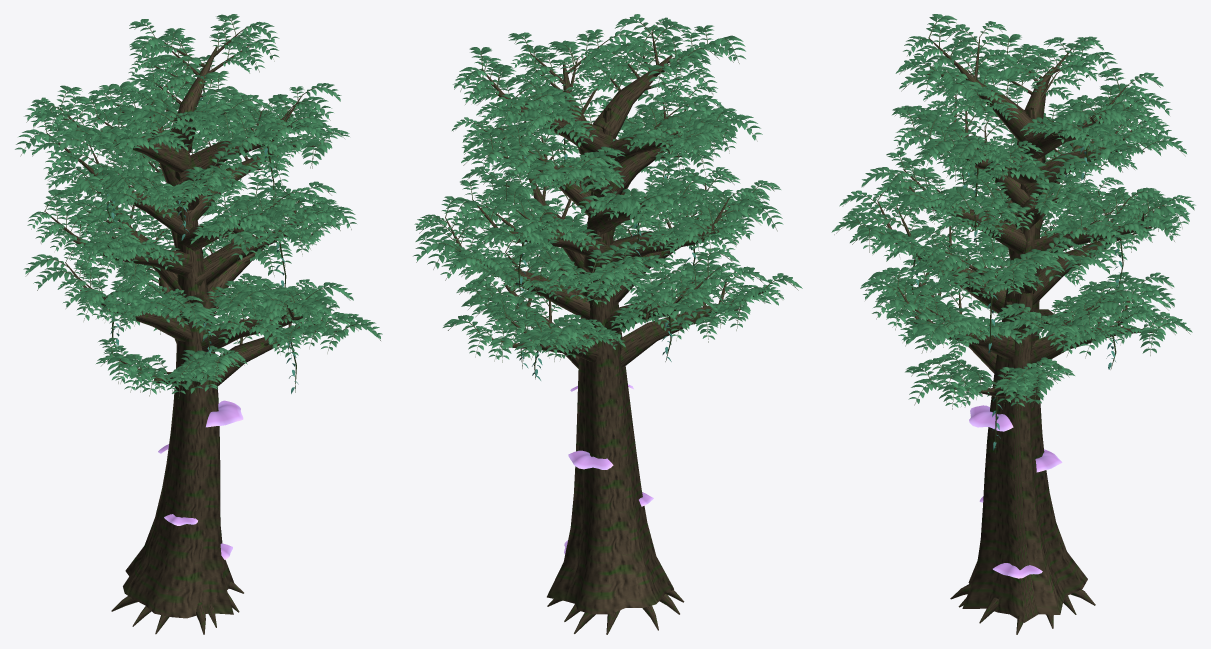
File: Shelfwood.glb
3 renders of one model, left to right at view 1: azimuth 30°, elevation 25°; view 2: azimuth 150°, elevation 25°; view 3: azimuth 270°, elevation 25°, orthographic. The views are drawn at different scales.
Parts seen in each view (by area): view 1: Shelfwood; view 2: Shelfwood; view 3: Shelfwood.
Part boxes in pixels (<box>): Shelfwood: <box>15,14,382,634</box>; Shelfwood: <box>413,14,802,634</box>; Shelfwood: <box>831,14,1195,634</box>.
Bounding box in the file's own units: 20.09 × 33.25 × 19.9.
Materials: 4 (1 with a texture image).
